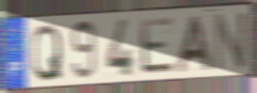4: (105, 17, 137, 79)
9: (70, 18, 99, 83)
A: (174, 14, 215, 76)
E: (138, 15, 177, 76)
N: (213, 9, 248, 74)
Q: (31, 23, 64, 84)
